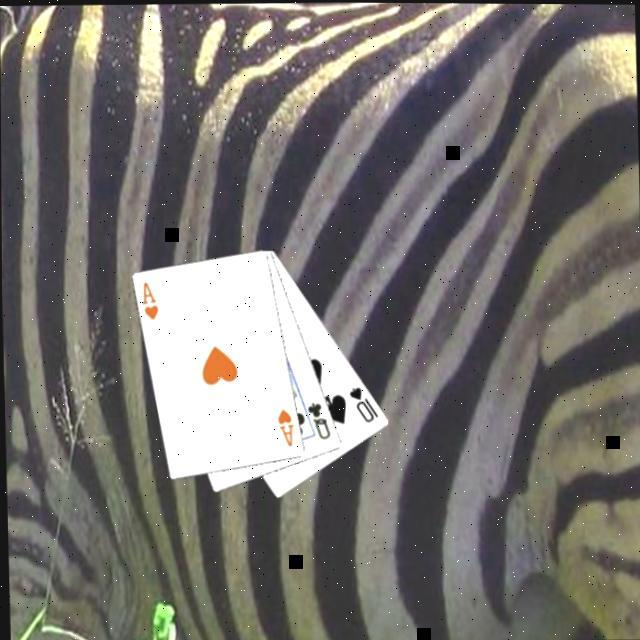10S: (344, 381, 380, 424)
AH: (272, 403, 296, 448), (136, 278, 159, 322)
QC: (302, 397, 332, 441)
